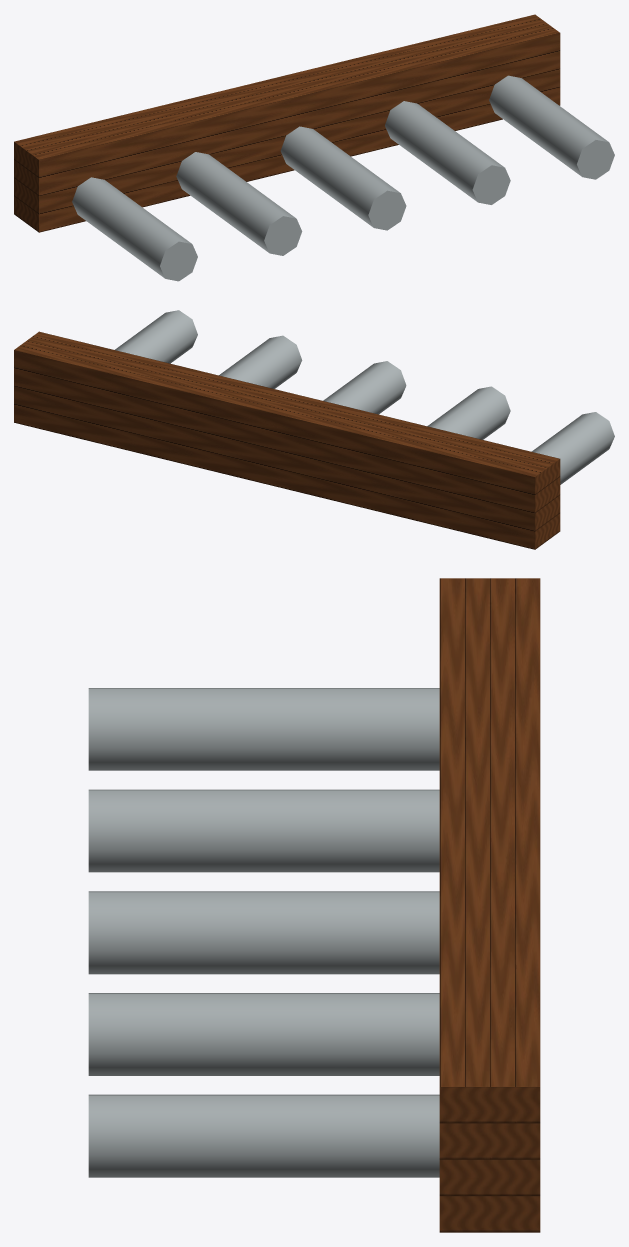
File: roadside-survival-stops-maintenance-key-rack-0c0f8cc2__23557.glb
3 views of the same model, one above another, from view 1: azimuth 30°, elevation 25°; view 2: azimuth 150°, elevation 25°; view 3: azimuth 270°, elevation 25° (orthographic). The views are drawn at different scales.
Parts seen in each view (by area): view 1: maintenance-key-rack; view 2: maintenance-key-rack; view 3: maintenance-key-rack.
Boxes of the visible parts, x1=… form: maintenance-key-rack: x1=14, y1=14, x2=614, y2=281; maintenance-key-rack: x1=14, y1=310, x2=614, y2=549; maintenance-key-rack: x1=88, y1=578, x2=540, y2=1232.
Bounding box in the file's own units: 0.6 × 0.08 × 0.225.
Materials: 2 (1 with a texture image).
